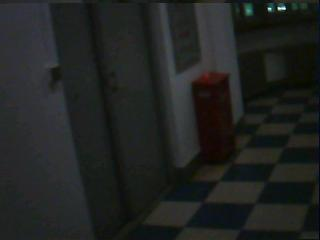oball: (204, 72, 209, 79)
